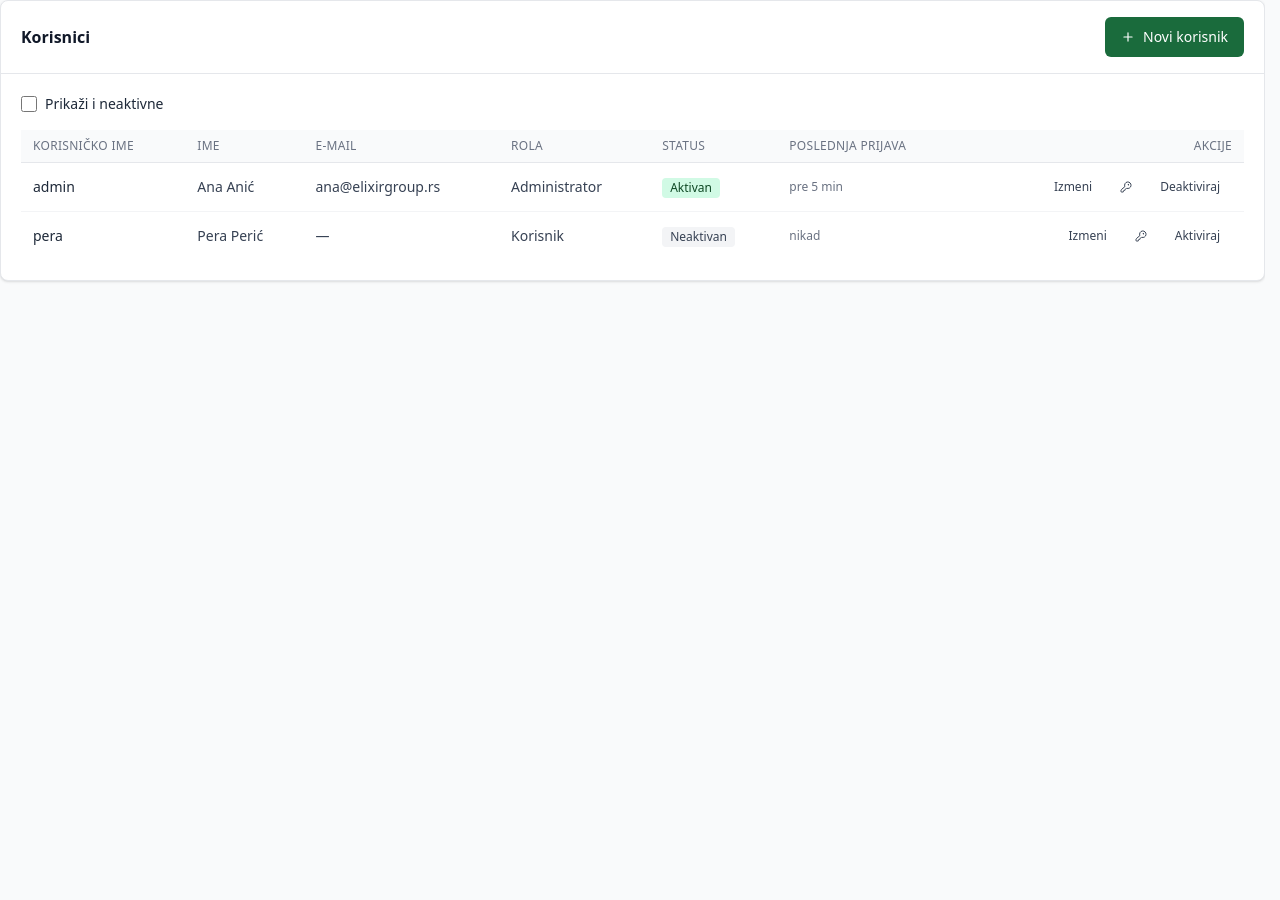
Test: KorisniciPage › reset lozinke otvara modal i šalje novu lozinku
Check: the text "Ana Anić" is shown, box [185,162,303,212]
Click the button named "Reset lozinke — pera".
click(1141, 236)  # box [1123,220,1159,252]
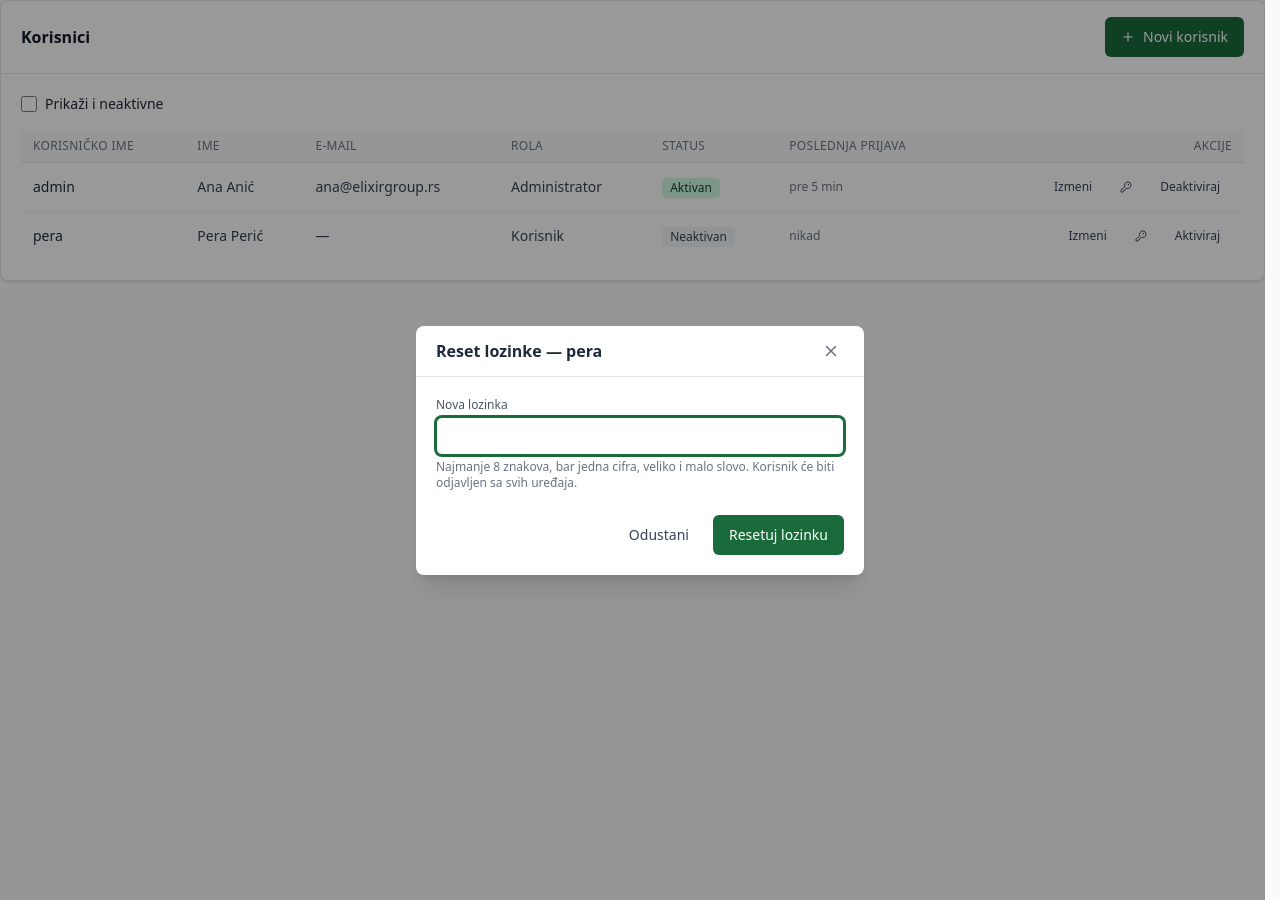
Type "NovaLozinka1" into the password field labelled "Nova lozinka".
click(640, 436); type("NovaLozinka1")  # box [436,416,844,454]
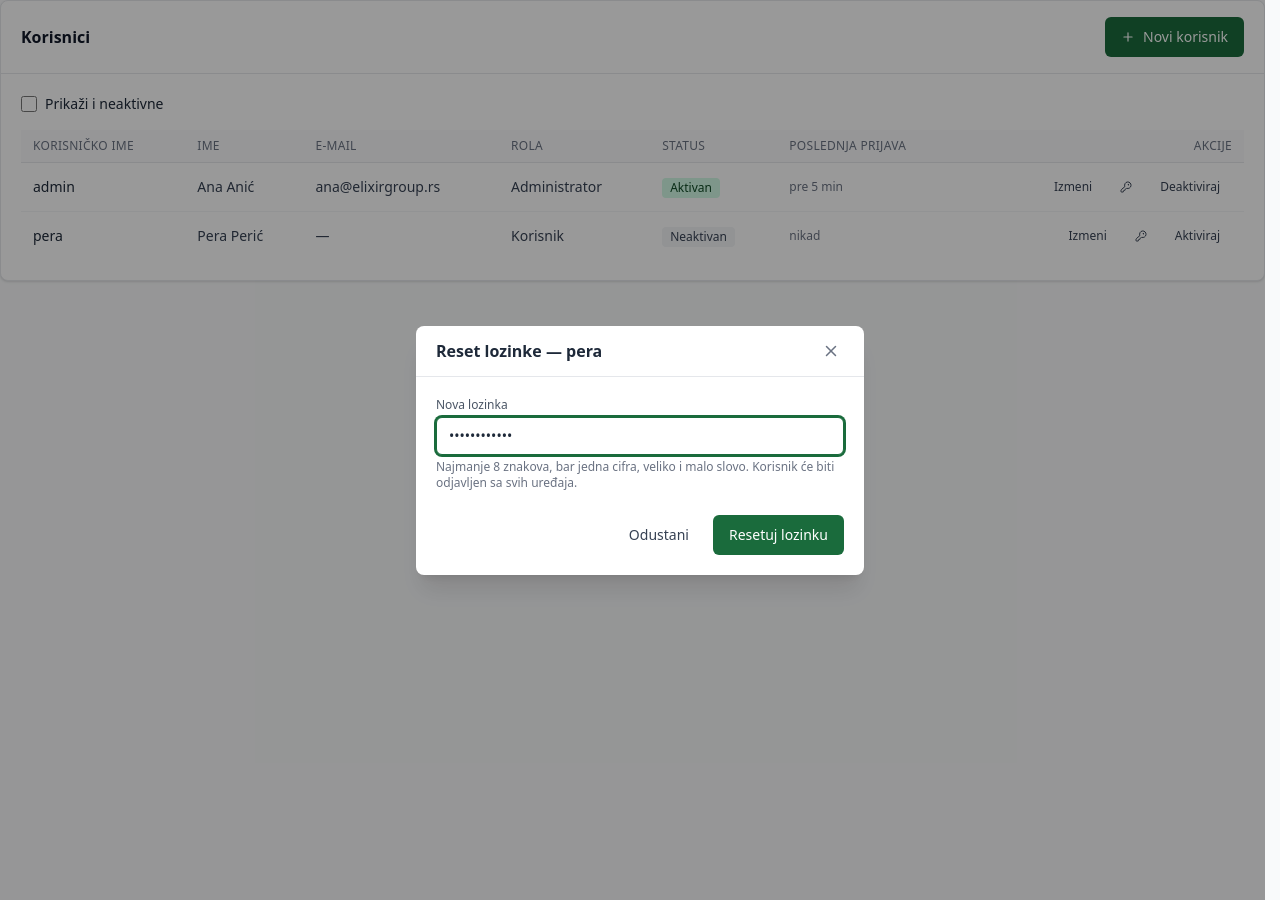
Click the button "Resetuj lozinku".
click(778, 534)  # box [713,514,844,554]
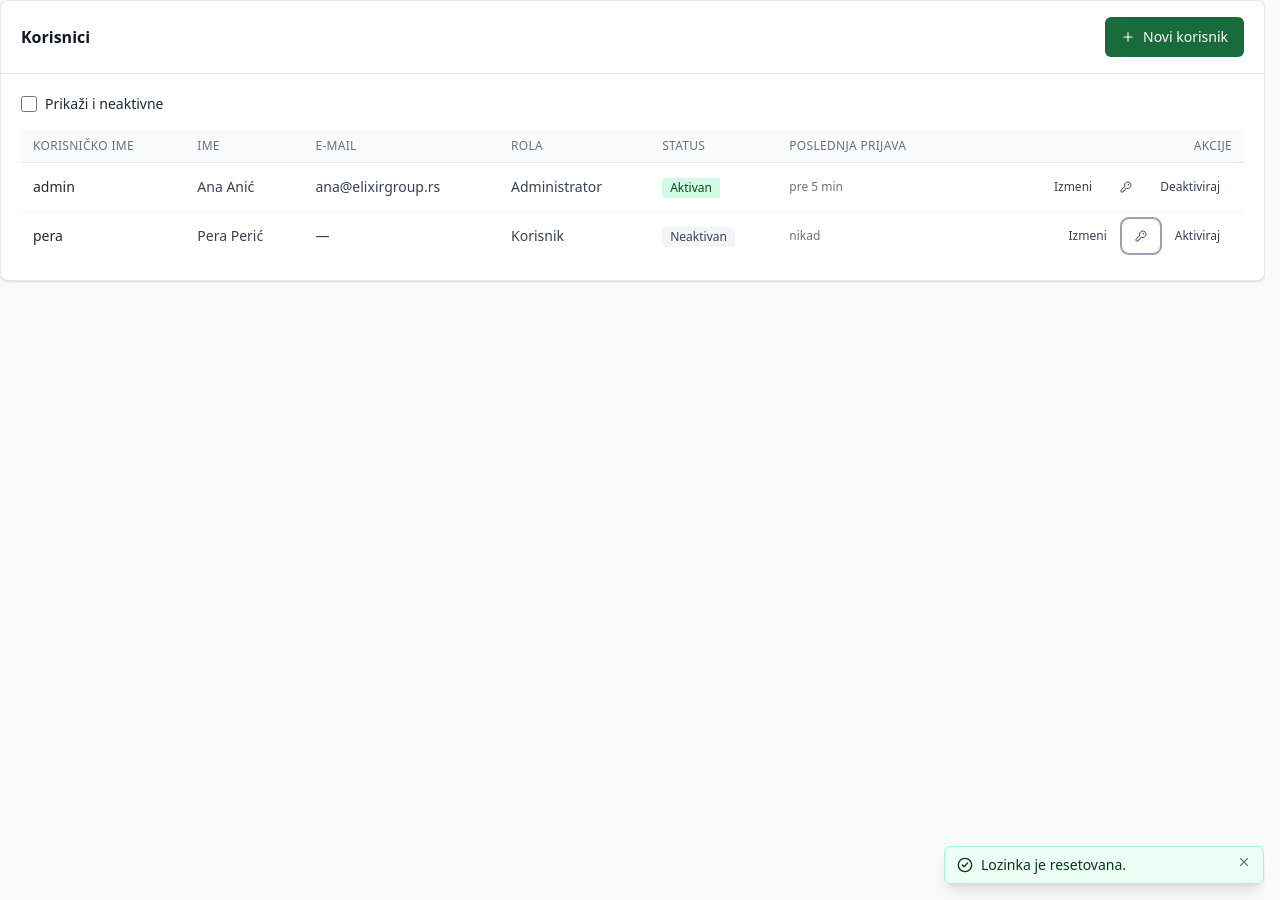
Check: the text "Lozinka je resetovana." is shown, box [981,855,1126,874]
